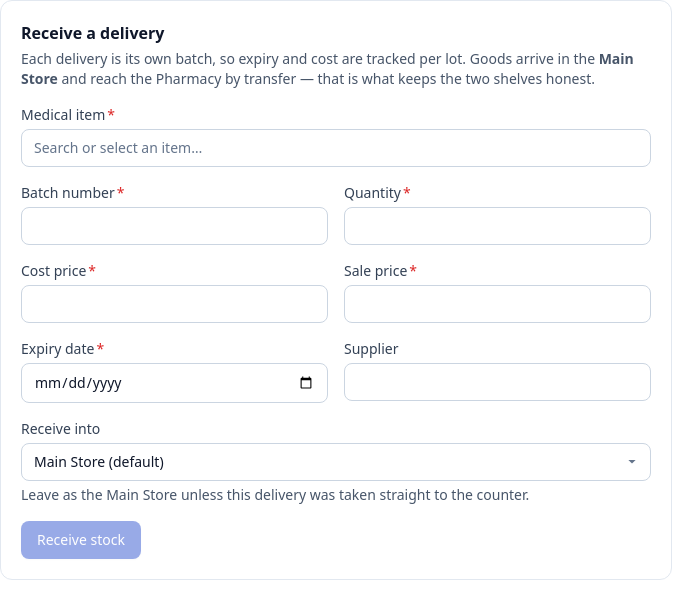
Test: Receive a delivery — the medical item field › opens the whole catalogue when clicked, and an item is chosen from it
The image size is (689, 597).
Click the dropdown labelled "Medical item*" at coordinates (336, 148), box [21,129,651,167]
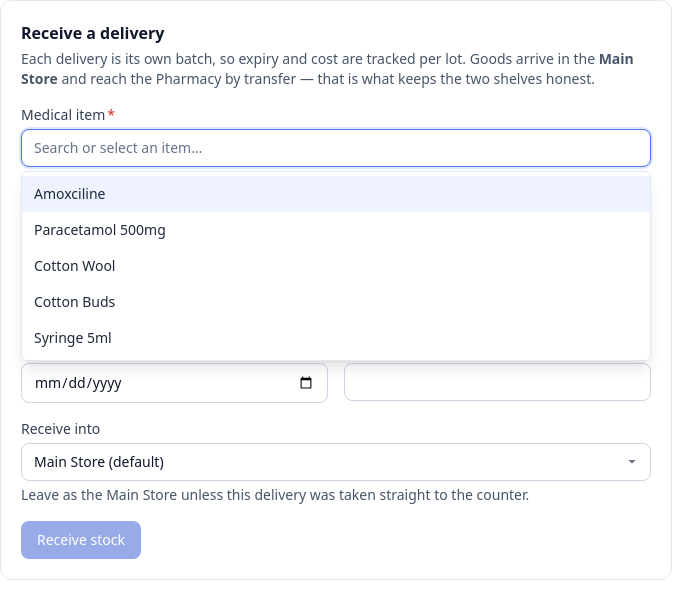
Click the option "Paracetamol 500mg" at coordinates (100, 230), box [34,220,166,239]
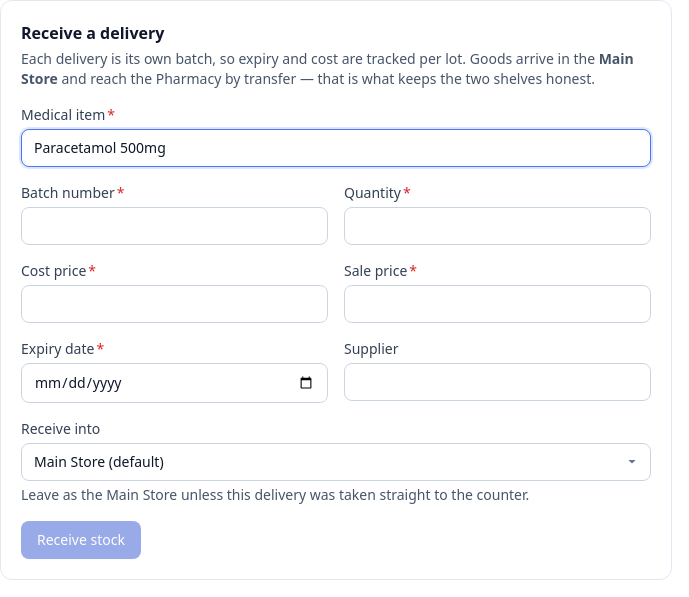
Expected: the dropdown labelled "Medical item*" holds "Paracetamol 500mg", [21,129,651,167]
Expected: the list is gone
